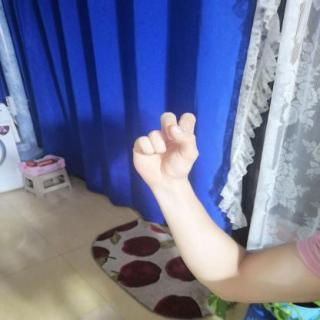QAAF: (122, 105, 210, 193)
